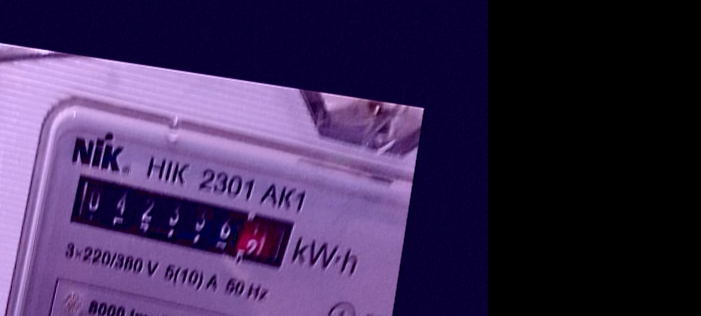0: (86, 183, 103, 214)
2: (138, 193, 160, 222)
3: (164, 197, 184, 228), (193, 202, 211, 232)
4: (112, 188, 132, 217)
6: (217, 212, 236, 241)
screen: (56, 163, 306, 279)
